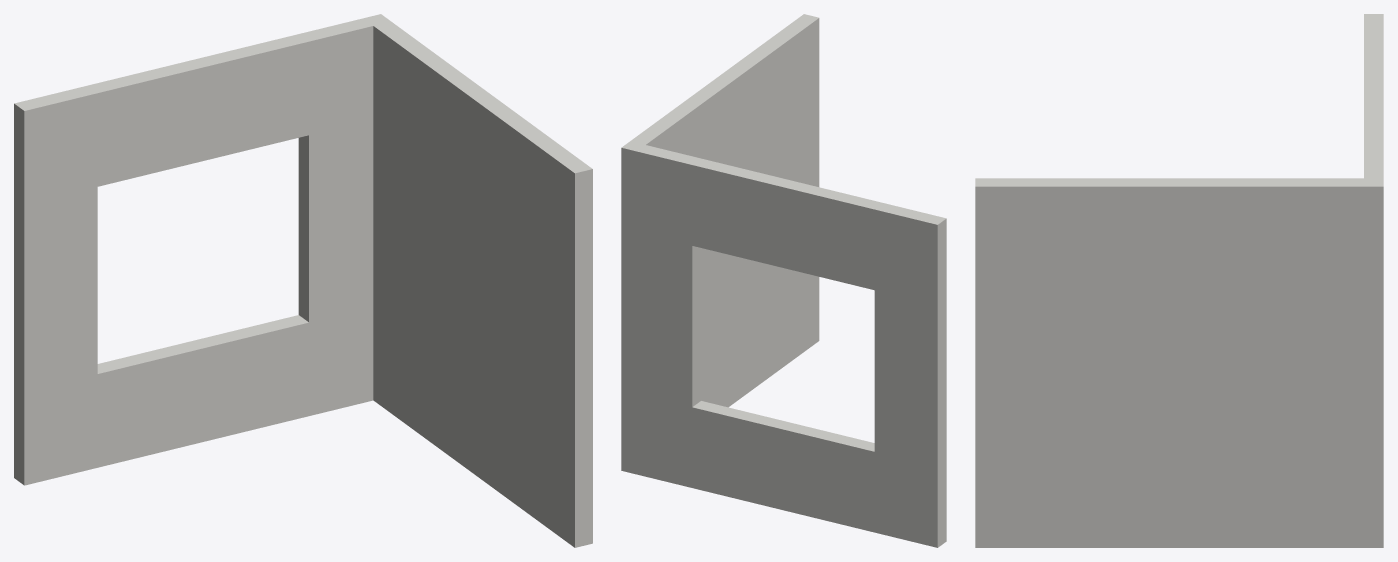
File: Wal_3_Corner_C.fbx
3 renders of one model, left to right at view 1: azimuth 30°, elevation 25°; view 2: azimuth 150°, elevation 25°; view 3: azimuth 270°, elevation 25°, orthographic. The views are drawn at different scales.
Parts seen in each view (by area): view 1: polySurface20; view 2: polySurface20; view 3: polySurface20.
Boxes of the visible parts, x1,y1,x2,y2 form: polySurface20: (14, 14, 592, 547); polySurface20: (621, 14, 946, 547); polySurface20: (975, 14, 1383, 547).
Bounding box in the file's own units: 4.1 × 4 × 4.1.
Materials: 1 (1 with a texture image).
